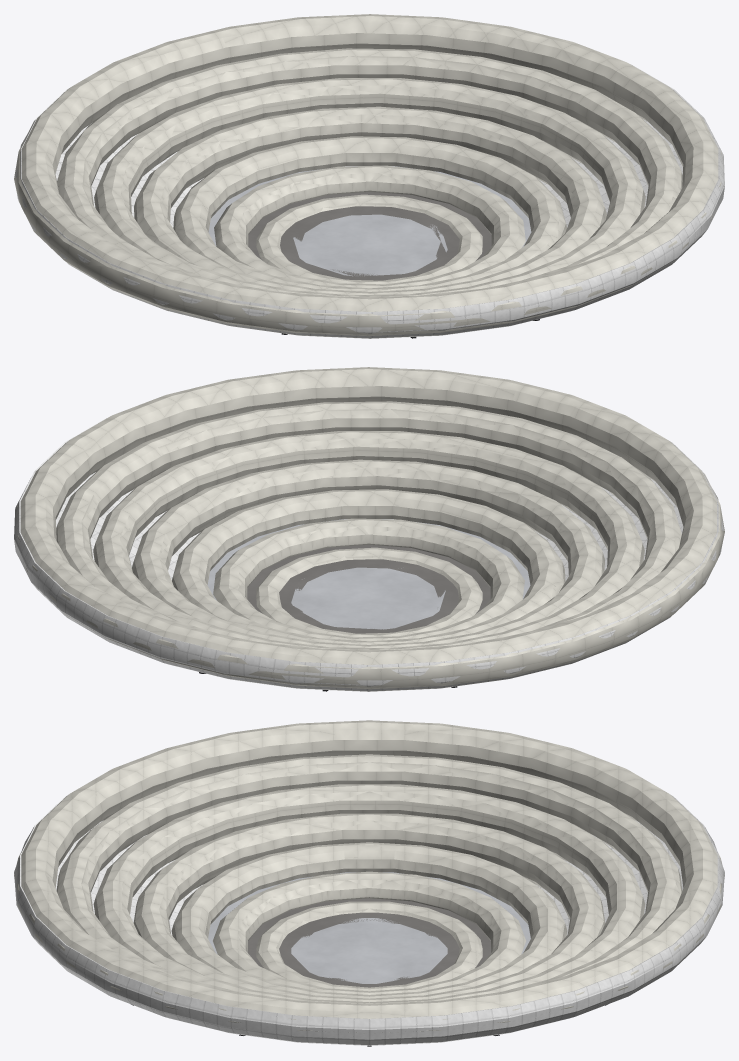
File: ax_cmd_16_hiad_l_deployed.glb
3 views of the same model, one above another, from view 1: azimuth 30°, elevation 25°; view 2: azimuth 150°, elevation 25°; view 3: azimuth 270°, elevation 25° (orthographic).
Parts seen in each view (by area): view 1: tori, blanket, centre_body, payload_deck, interface_ring; view 2: tori, blanket, centre_body, payload_deck, interface_ring; view 3: tori, blanket, centre_body, payload_deck, interface_ring.
Boxes of the visible parts, x1,y1,x2,y2 form: tori: [14, 14, 721, 338]; blanket: [15, 64, 724, 338]; centre_body: [293, 214, 447, 276]; payload_deck: [248, 192, 491, 280]; interface_ring: [208, 166, 531, 247]; tori: [17, 367, 724, 691]; blanket: [14, 417, 723, 691]; centre_body: [291, 567, 445, 629]; payload_deck: [247, 545, 490, 633]; interface_ring: [207, 519, 530, 600]; tori: [14, 720, 724, 1033]; blanket: [14, 794, 724, 1045]; centre_body: [291, 918, 447, 983]; payload_deck: [248, 898, 490, 987]; interface_ring: [208, 872, 530, 954].
Bounding box in the file's own units: 7.48 × 1.82 × 7.48.
Materials: 5 (4 with a texture image).
